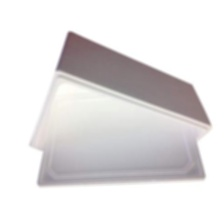foam_box: (25, 27, 215, 194)
